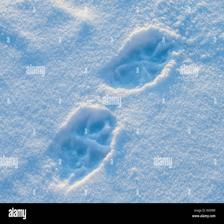wolf: (56, 102, 121, 175), (116, 40, 171, 90)
